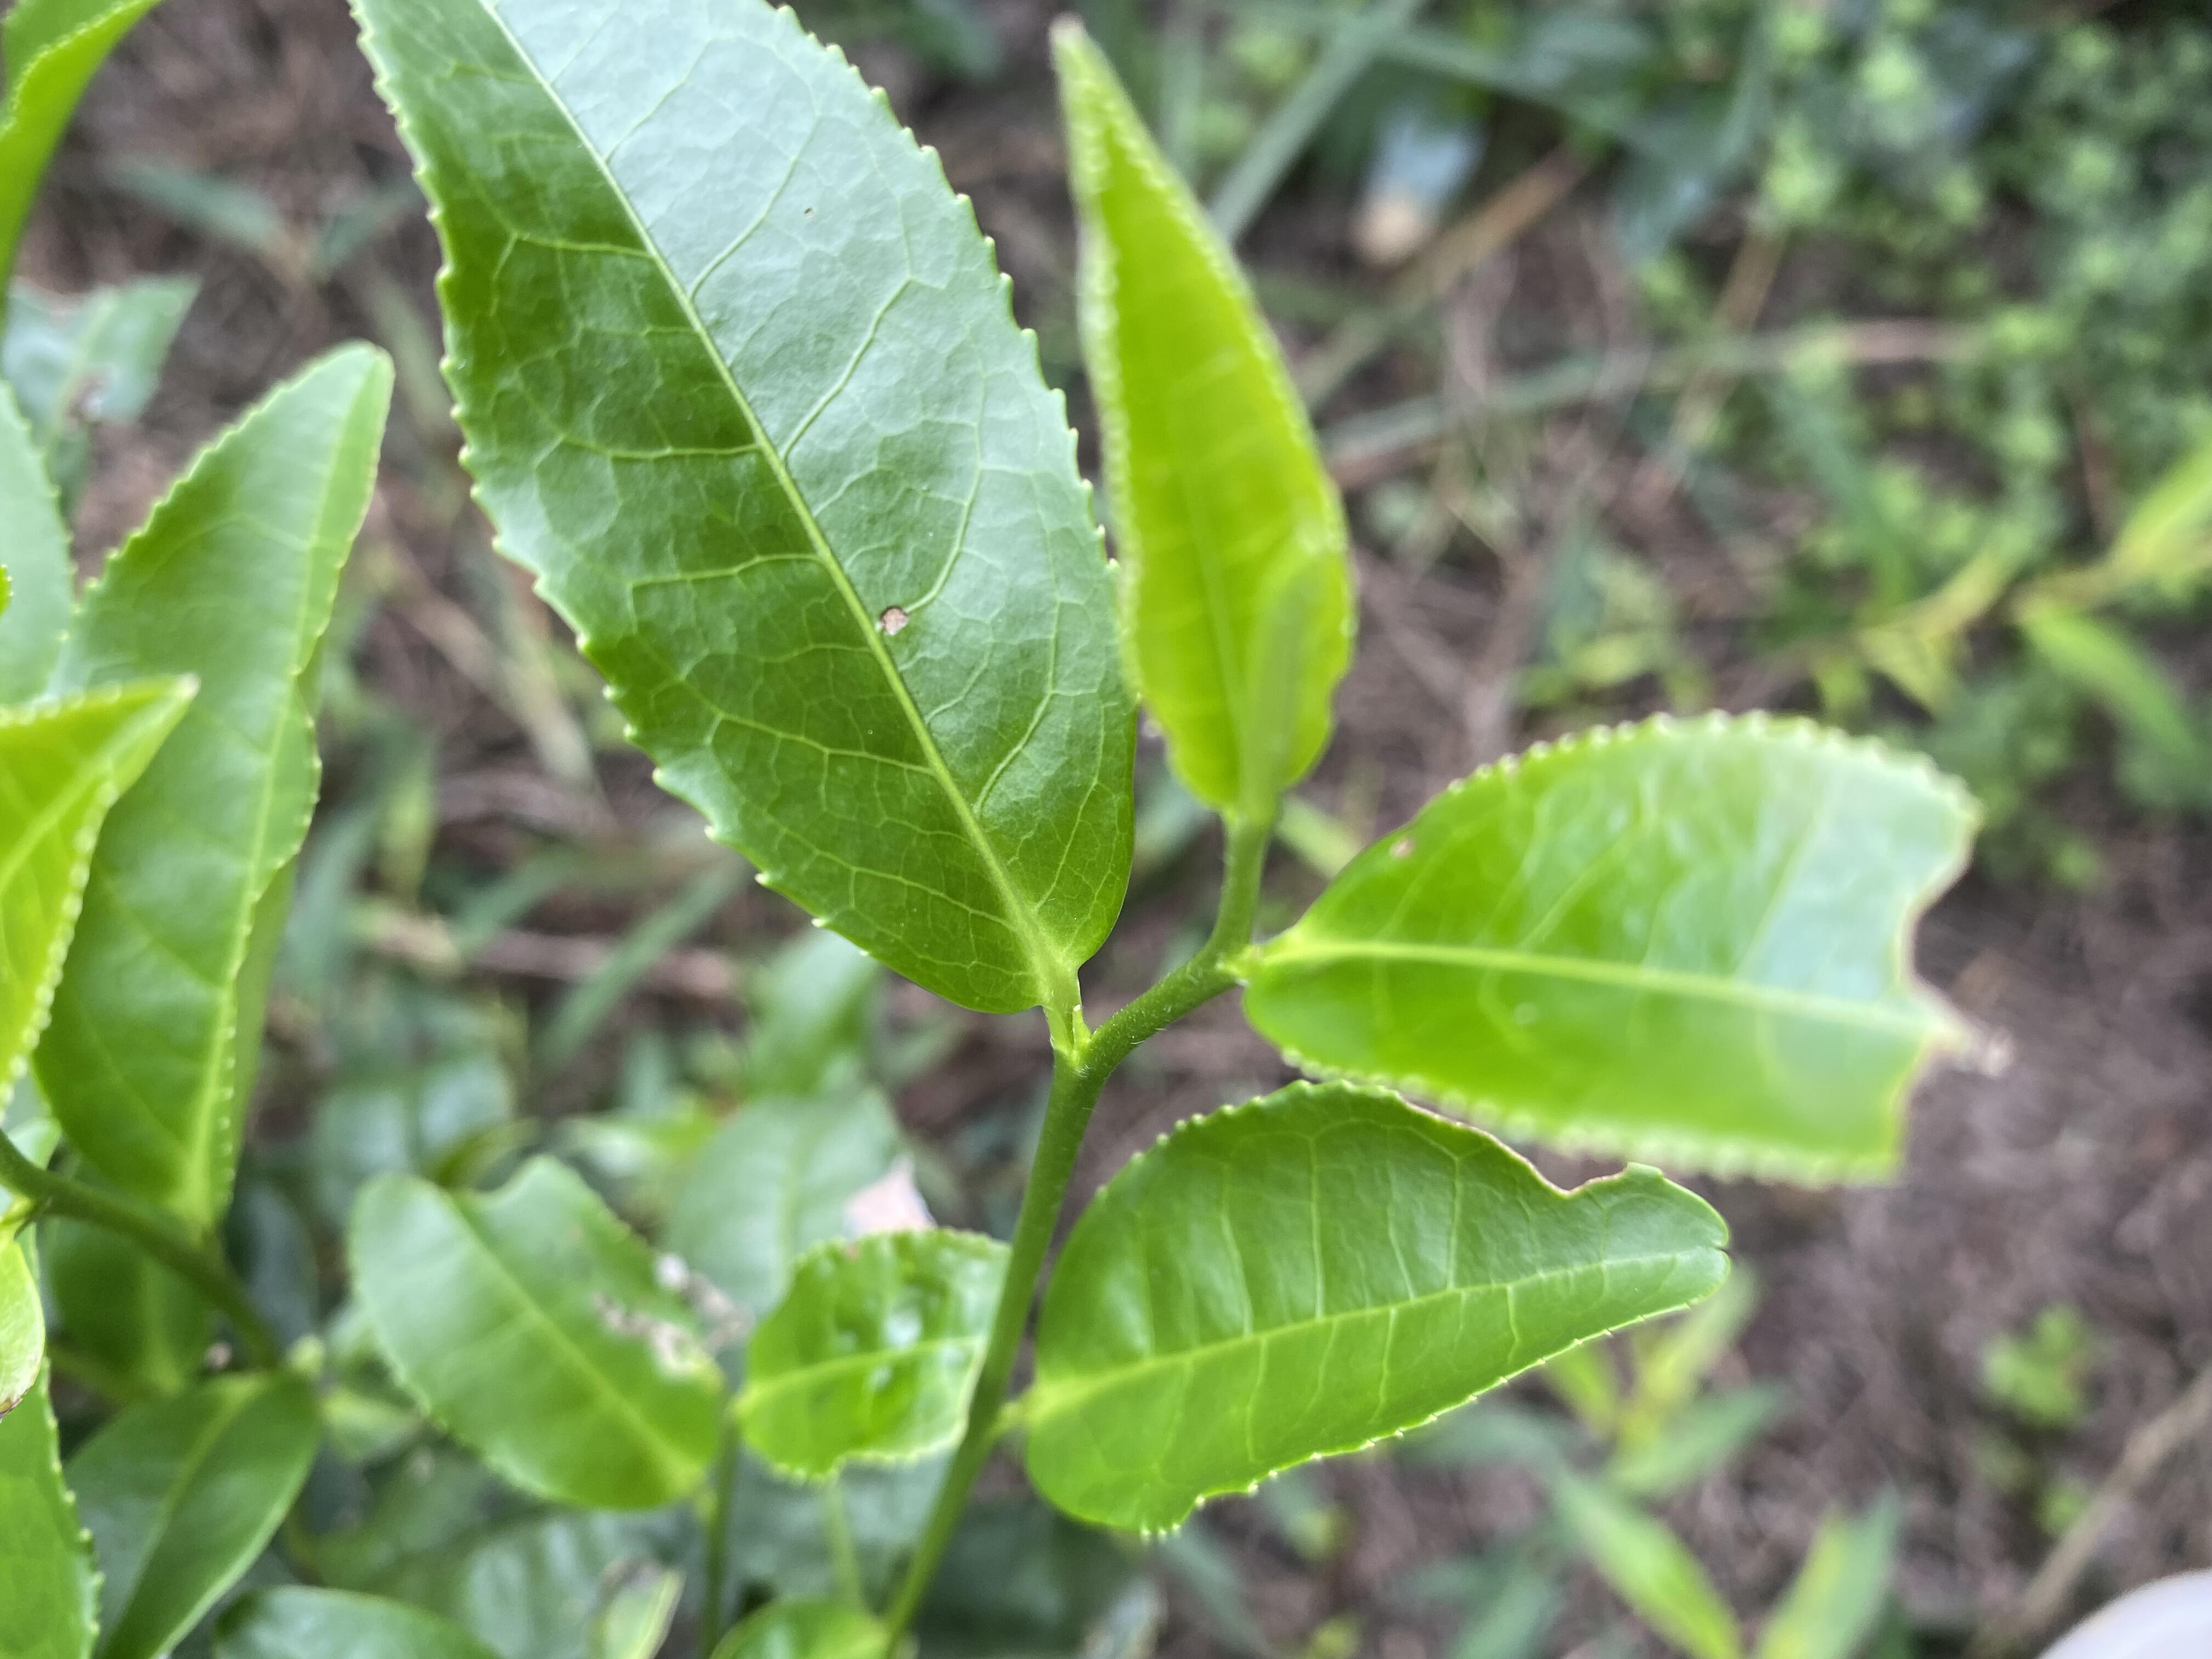chihuo_high: (1238, 709, 2015, 1192)
healthy: (1019, 1077, 1735, 1542), (1054, 23, 1360, 812)
tanju_low: (340, 2, 1136, 1014)
